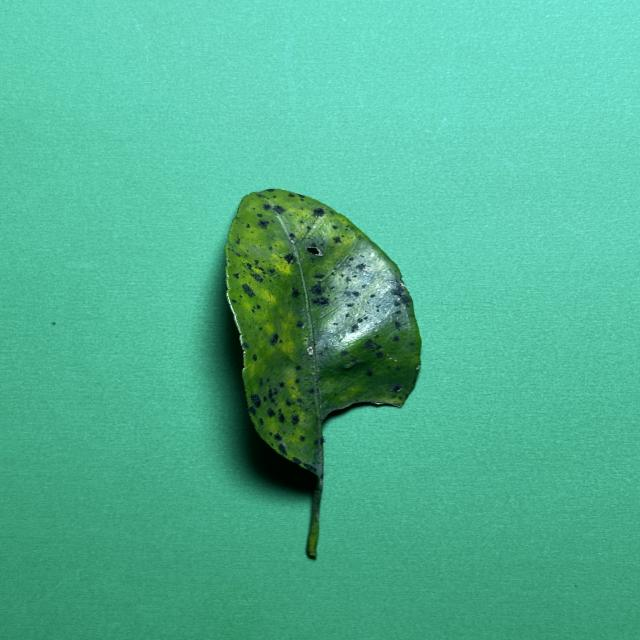sooty_mold: (226, 189, 420, 557)
